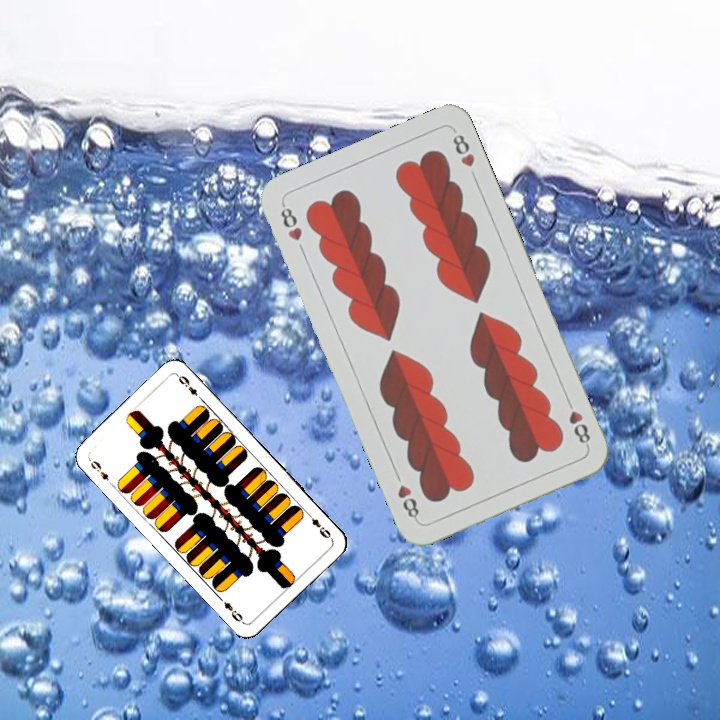E9: (85, 455, 116, 488), (303, 509, 333, 541)
H8: (562, 394, 593, 450), (276, 199, 305, 244)
